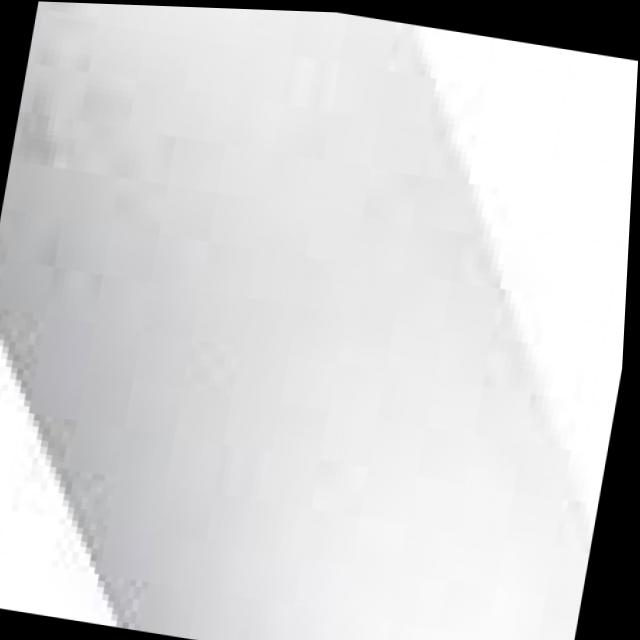metal-plates: (1, 2, 603, 640)
